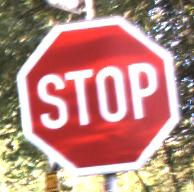Stop sign: (0, 0, 193, 191)
